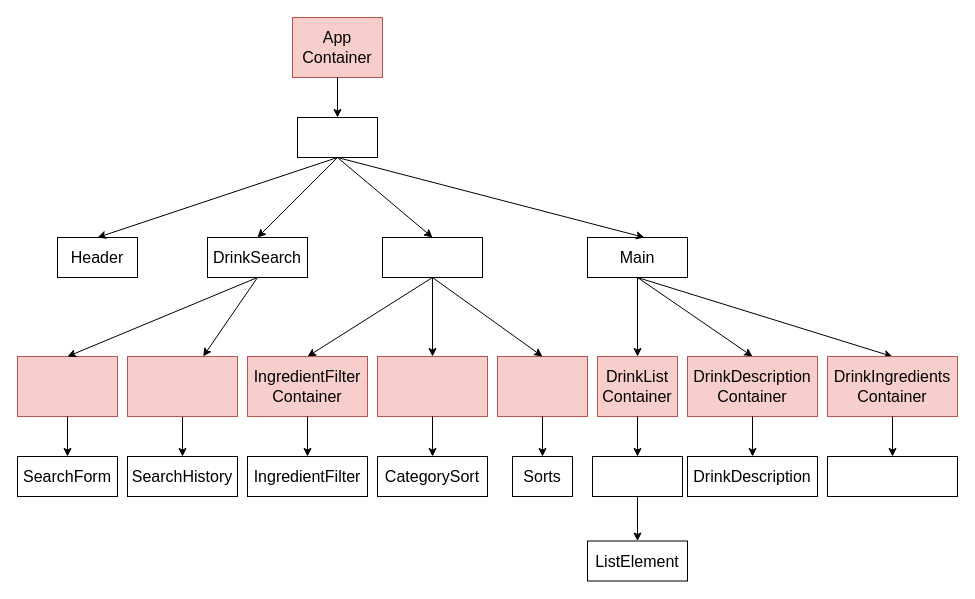
The diagram is 975 pixels wide and 599 high, and some of its shapes have lost their labels. The box of each missing label's shape, as (x1, y1, x2, y2) in pixels:
App: (296, 116, 378, 158)
CategorySort Container: (376, 356, 488, 416)
DrinkIngredients: (826, 456, 958, 496)
DrinkList: (592, 456, 682, 496)
Filters: (382, 236, 482, 278)
SearchForm Container: (16, 356, 118, 416)
SearchHistory Container: (126, 356, 238, 416)
Sorts Container: (496, 356, 588, 416)
